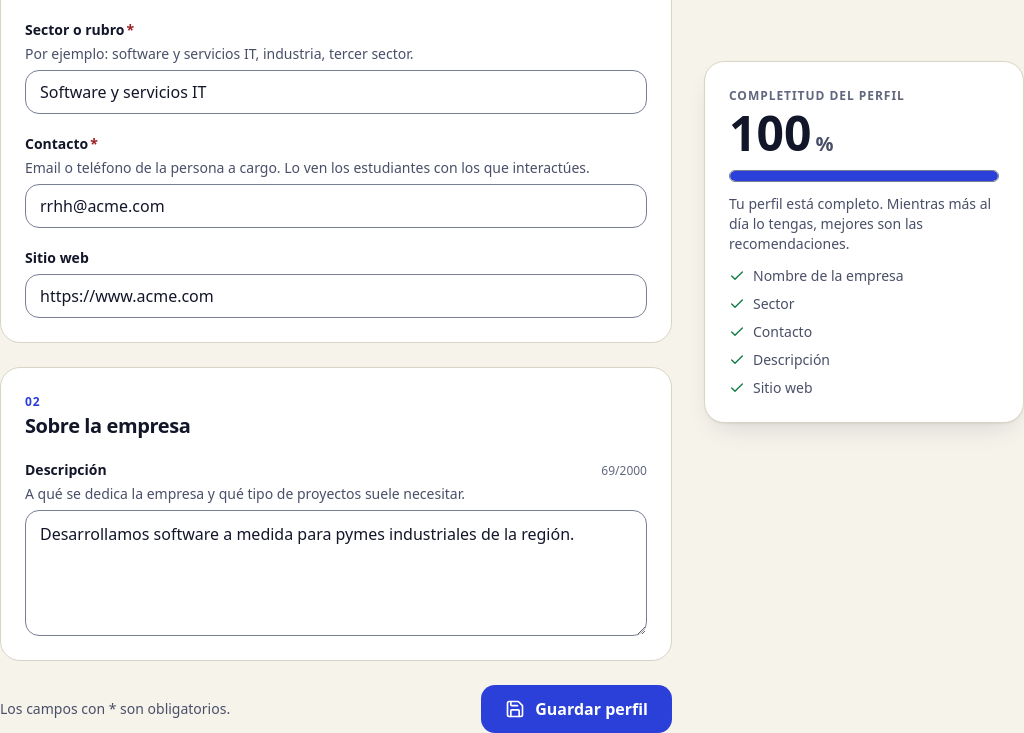
Test case: PerfilEmpresaForm › muestra el error por campo que devuelve el servidor
The width and height of the screenshot is (1024, 733).
(page scrolled)
Click the button "Guardar perfil".
click(577, 709)  # box [481,685,672,732]
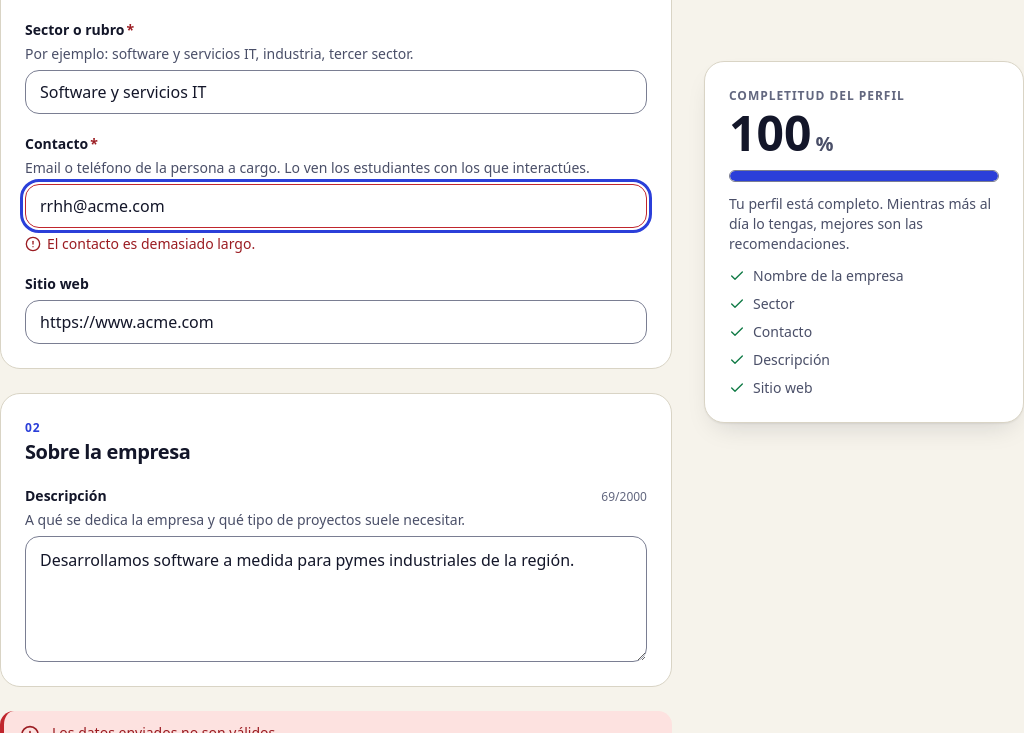
Check: the text "El contacto es demasiado largo." is shown, box [47,234,255,254]
